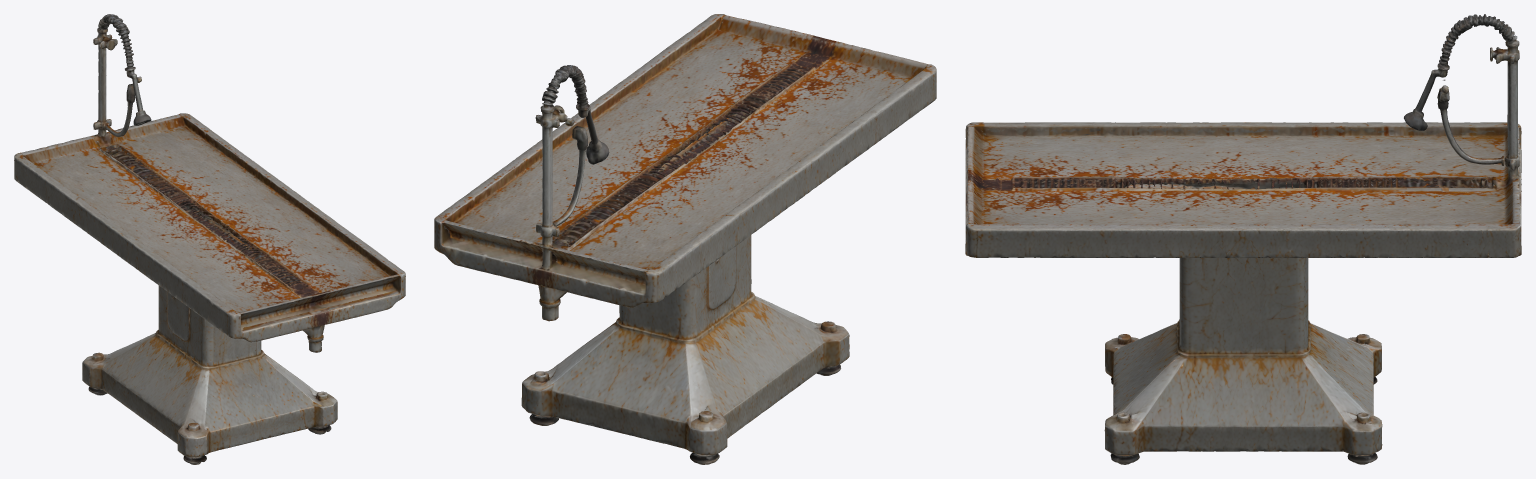
Rendered from AutopsyTable.fbx.
3 renders of one model, left to right at view 1: azimuth 30°, elevation 25°; view 2: azimuth 150°, elevation 25°; view 3: azimuth 270°, elevation 25°, orthographic. The views are drawn at different scales.
Parts seen in each view (by area): view 1: texture_mapping; view 2: texture_mapping; view 3: texture_mapping.
Part boxes in pixels (bbox=[...]): texture_mapping: bbox=[14, 14, 405, 464]; texture_mapping: bbox=[434, 14, 936, 464]; texture_mapping: bbox=[965, 14, 1521, 464].
Bounding box in the file's own units: 0.4579 × 1 × 0.8108.
1 material, 1 textured.
